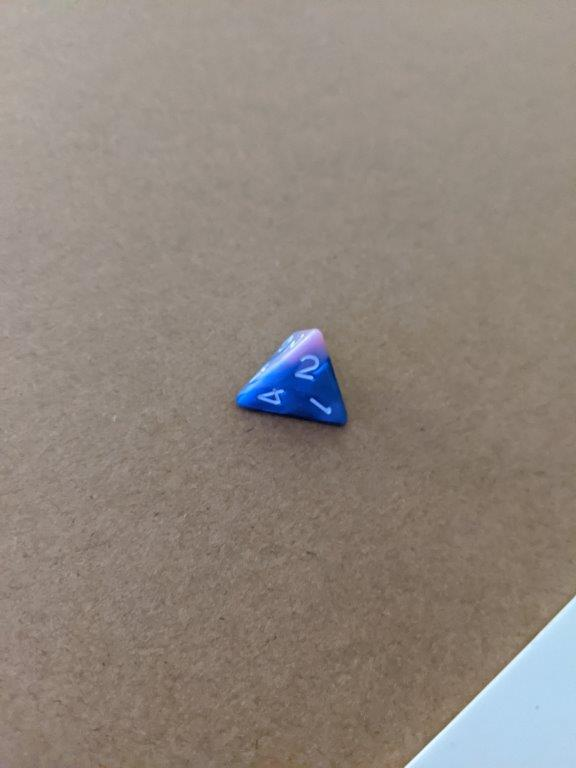d4-2: (227, 323, 355, 433)
